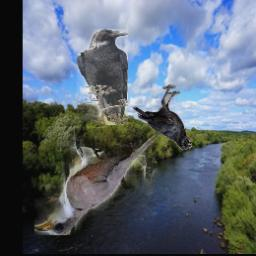Crow: (77, 30, 128, 126), (133, 84, 192, 150)
Cuckoo: (35, 128, 164, 235)
